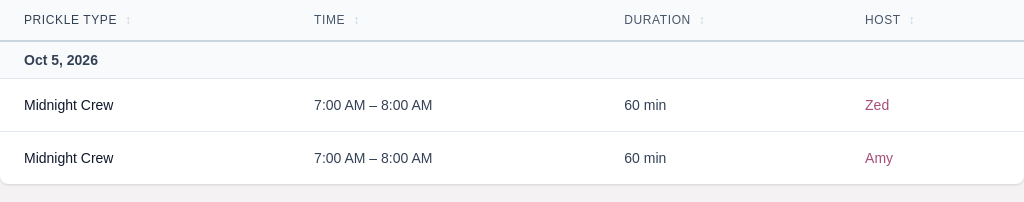
attendance views name the host by display name › sorts the list by the host name shown
Click the column heading "Host ↕": [883, 20] box left=841, top=0, right=1023, bottom=41
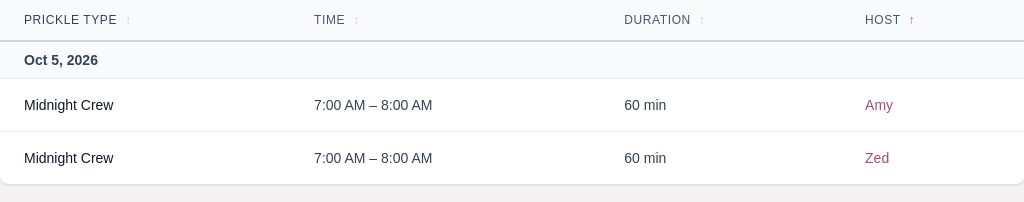
Check: the links read "Amy", "Zed", in this order, box left=865, top=97, right=893, bottom=113; left=865, top=150, right=889, bottom=166
